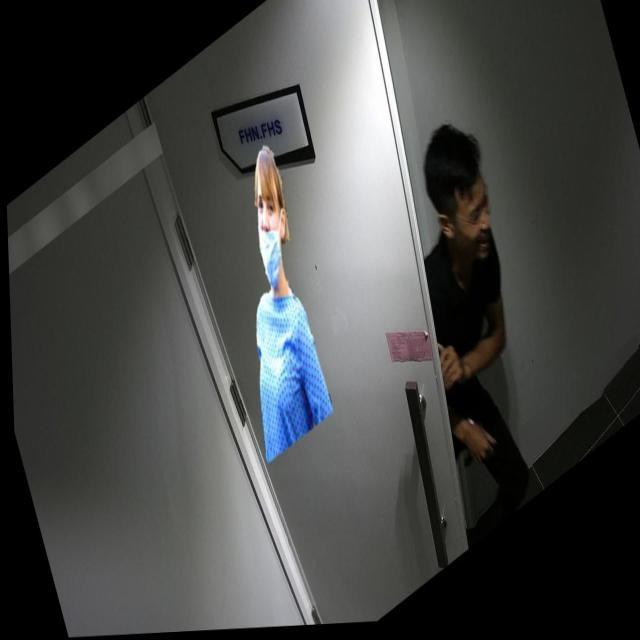hairnet: (240, 176, 292, 296)
